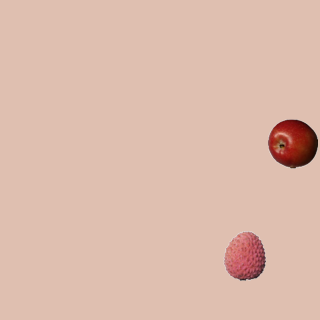Apple Braeburn: (267, 118, 317, 168)
Lychee: (219, 230, 269, 280)
